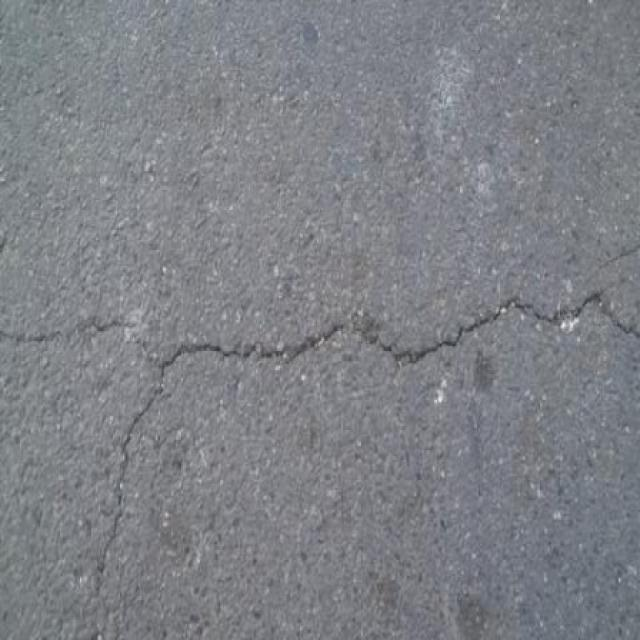Diagonal Crack: (5, 279, 640, 640), (604, 230, 640, 271)
